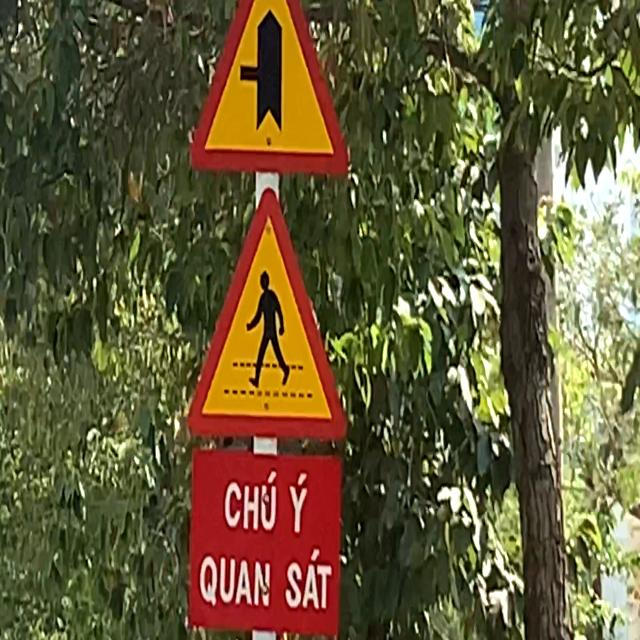W.205a: (184, 0, 351, 179)
W.224: (182, 184, 351, 443)
